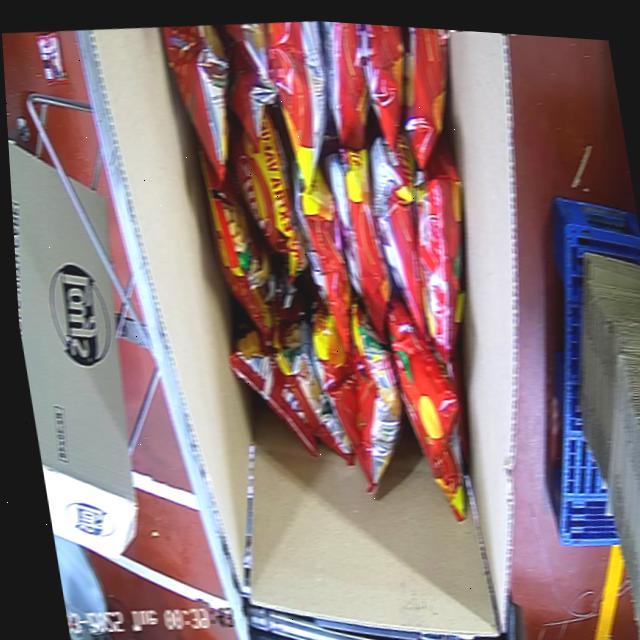MASALA: (156, 10, 531, 549)
